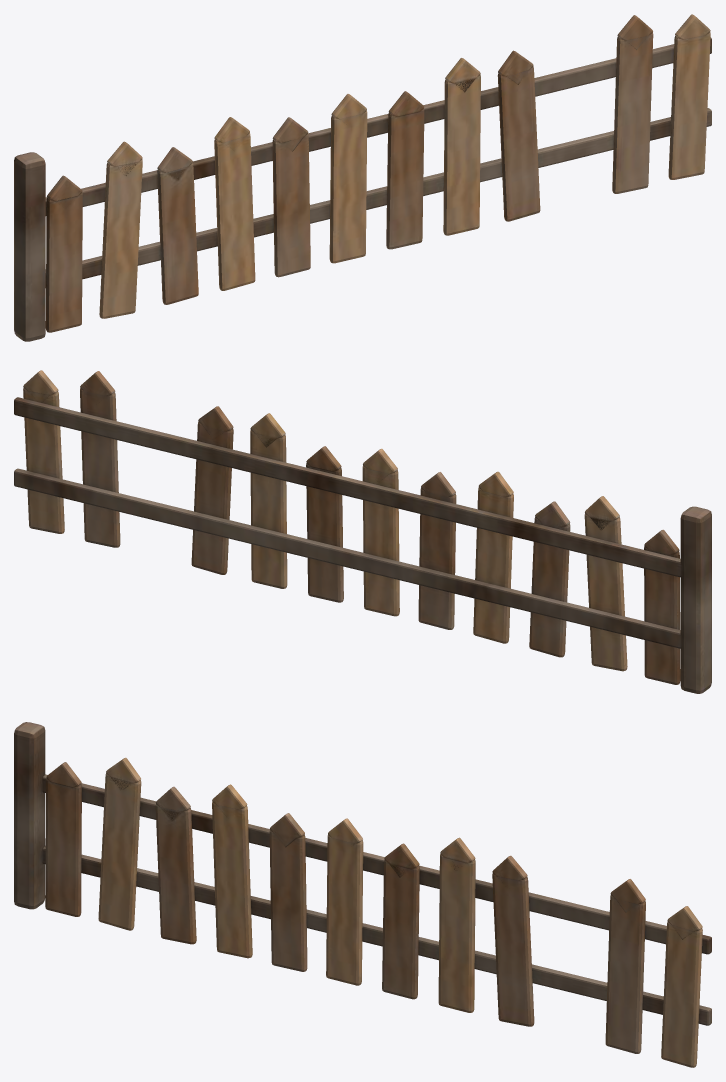
Rendered from fence_low_c.glb.
The picture shows the model from 3 angles, top to bottom: view 1: azimuth 30°, elevation 25°; view 2: azimuth 150°, elevation 25°; view 3: azimuth 330°, elevation 25°; orthographic projection.
Parts seen in each view (by area): view 1: FenceLow_Mesh; view 2: FenceLow_Mesh; view 3: FenceLow_Mesh.
Boxes of the visible parts, x1=… form: FenceLow_Mesh: x1=14, y1=14, x2=711, y2=341; FenceLow_Mesh: x1=14, y1=370, x2=711, y2=693; FenceLow_Mesh: x1=14, y1=722, x2=711, y2=1067.
Bounding box in the file's own units: 4.04 × 1 × 0.13.
Materials: 1 (1 with a texture image).
